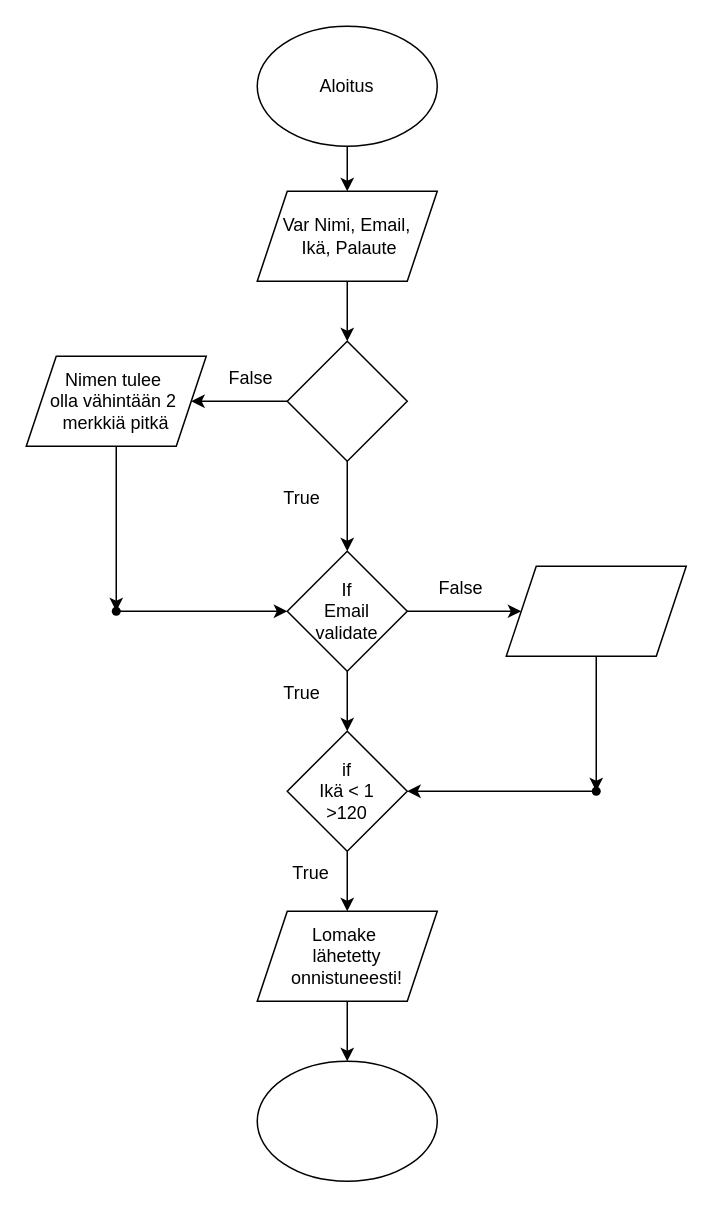
This 713x1208 diagram has some shape labels left out. The centre of each missing label's shape, as x and y in pixels:
If nimi.length < 2: the point at 346,400
Lopetus: the point at 346,1120
Sähköposti on virheellisessä muodossa.: the point at 595,610
